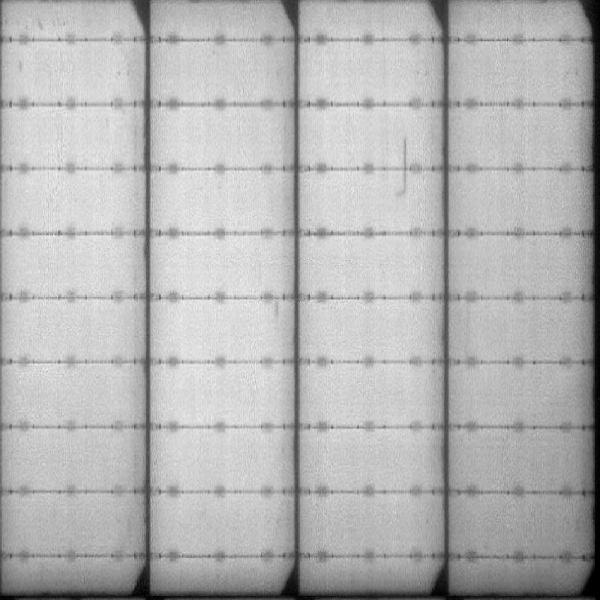scratch: (398, 136, 412, 195)
